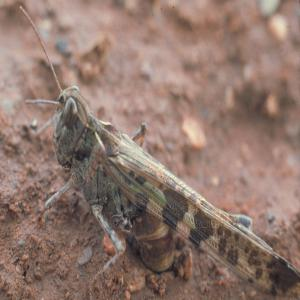locust: (41, 52, 300, 280)
